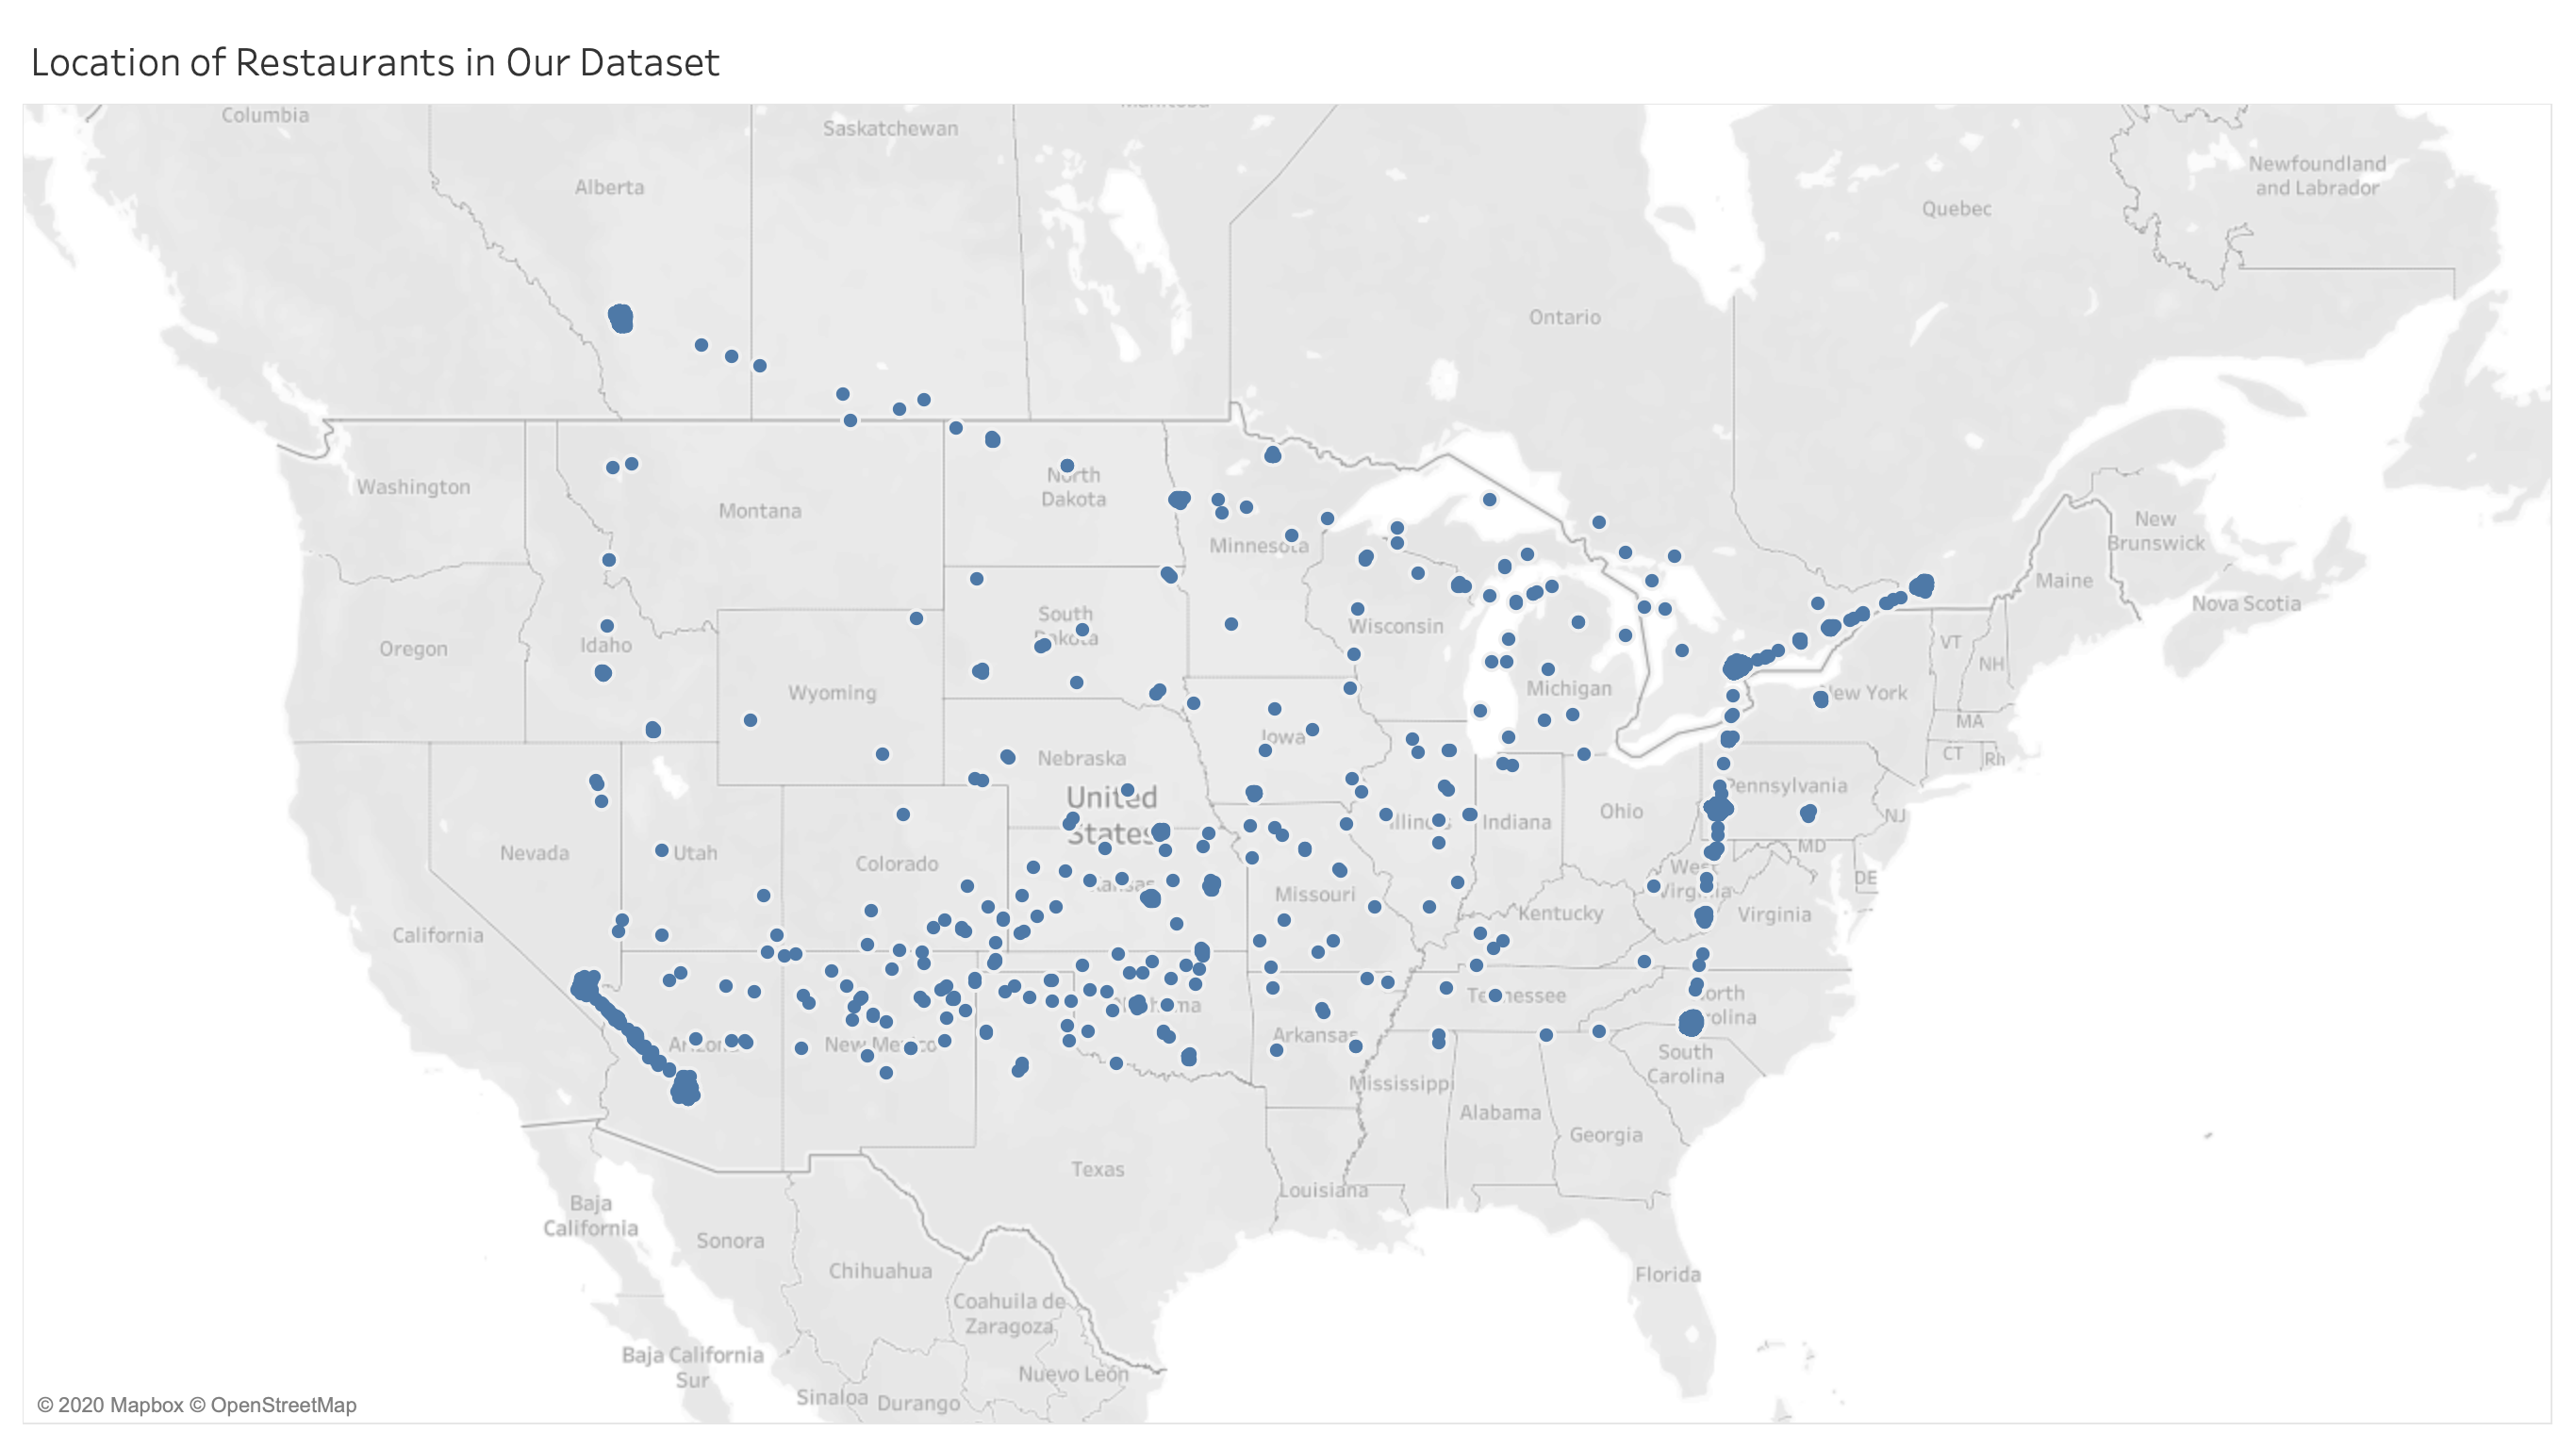

This screenshot's page, from the dashboard's own definition file:
{"tool":"tableau","page":{"name":"Dashboard 5","canvas":[1366,768],"ordinal":4},"visuals":[{"type":"worksheet","box":[0,0,1366,768]},{"type":"worksheet","title":"Sheet 10","mark":"Circle","rows":["latitude"],"cols":["longitude"],"box":[8,8,1350,752]}]}

Visuals, with their boxes in screenshot pixels (x1, y1, x2, y2), scaled from the page's 1366x768 canvas onto the 2576x1448 screenshot:
worksheet: (left=0, top=0, right=2575, bottom=1447)
"Sheet 10" worksheet (Circle marks): (left=15, top=15, right=2561, bottom=1433)
